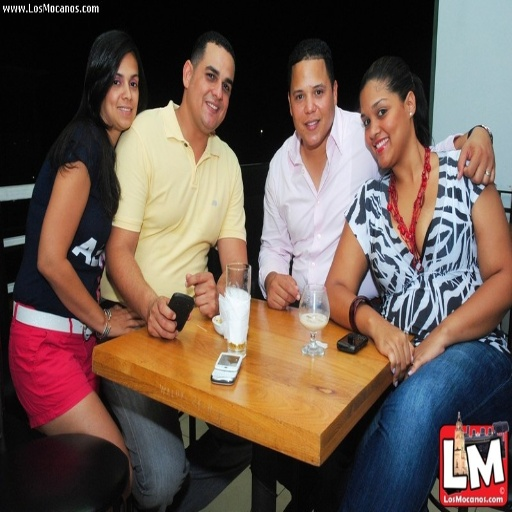hand: (459, 114, 500, 189), (373, 320, 415, 390), (146, 294, 190, 339), (405, 335, 445, 382), (184, 269, 218, 320), (264, 271, 301, 312), (104, 302, 146, 335)
